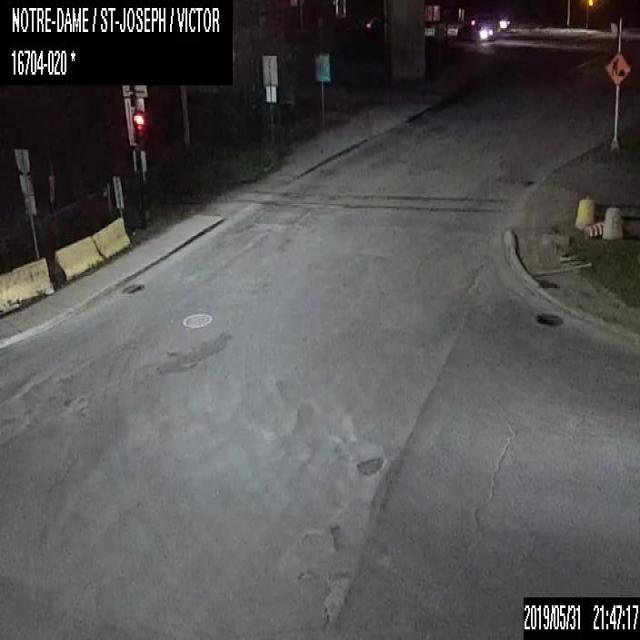construction: (604, 49, 632, 87), (583, 220, 603, 238)
vehicle: (456, 20, 492, 40), (492, 18, 510, 32)
